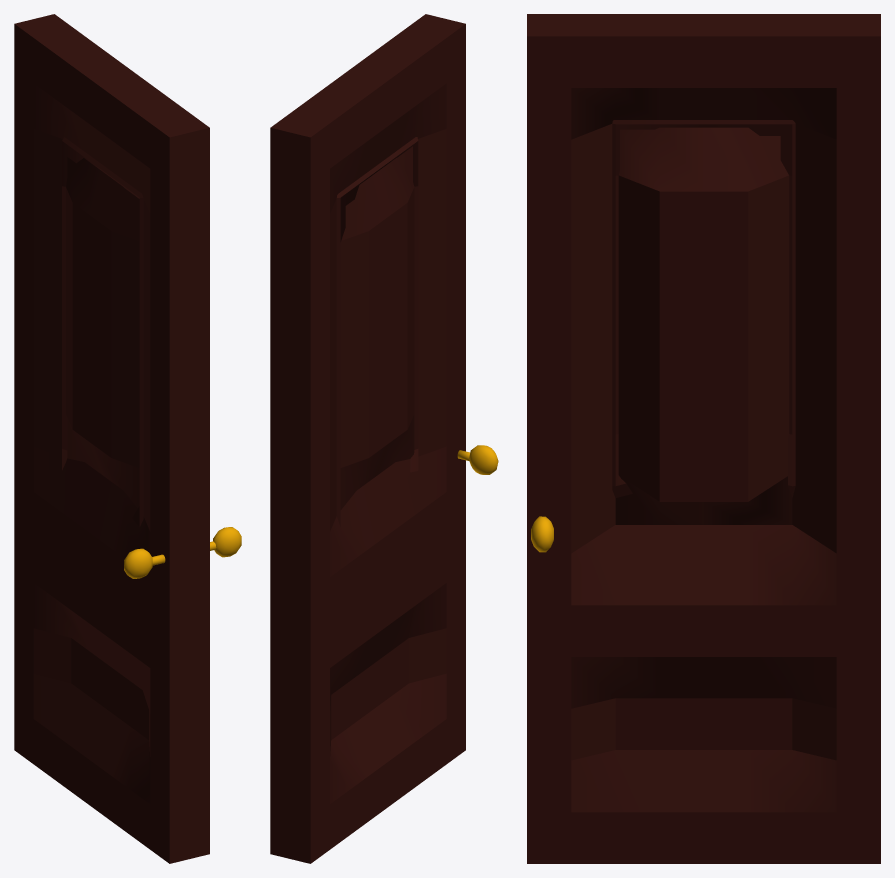
Rendered from door1.fbx.
3 views of the same model, side by side, from view 1: azimuth 30°, elevation 25°; view 2: azimuth 150°, elevation 25°; view 3: azimuth 270°, elevation 25° (orthographic). The views are drawn at different scales.
Parts seen in each view (by area): view 1: Cube, Икосфера.001, Икосфера; view 2: Cube, Икосфера.001; view 3: Cube, Икосфера.
Part boxes in pixels (bbox=[...]): Cube: bbox=[14, 14, 209, 863]; Икосфера.001: bbox=[124, 548, 165, 578]; Икосфера: bbox=[210, 527, 241, 557]; Cube: bbox=[270, 14, 465, 863]; Икосфера.001: bbox=[457, 445, 498, 474]; Cube: bbox=[527, 14, 880, 863]; Икосфера: bbox=[531, 516, 553, 552].
Bounding box in the file's own units: 142 × 837 × 325.
